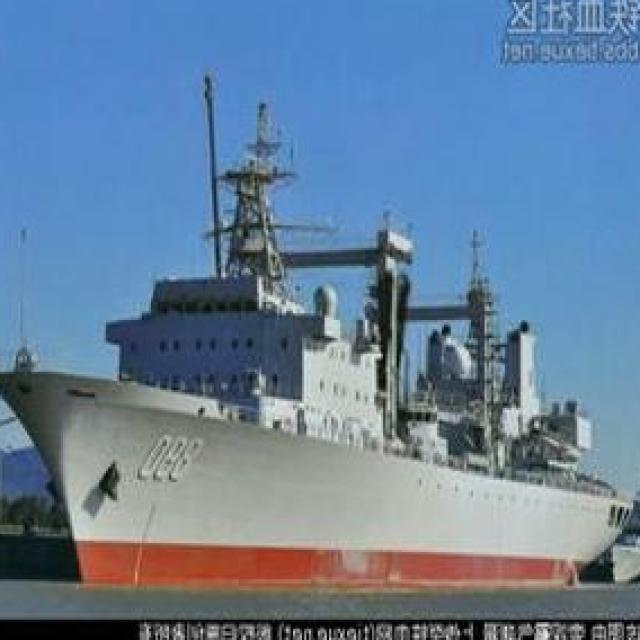navalvessels: (0, 86, 638, 584)
